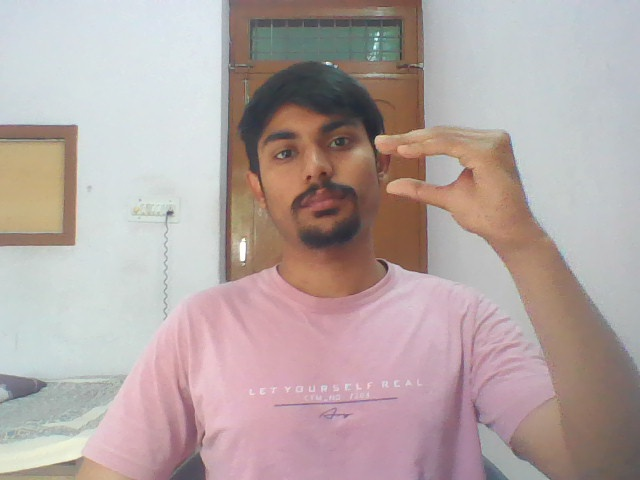No: (371, 124, 535, 237)
